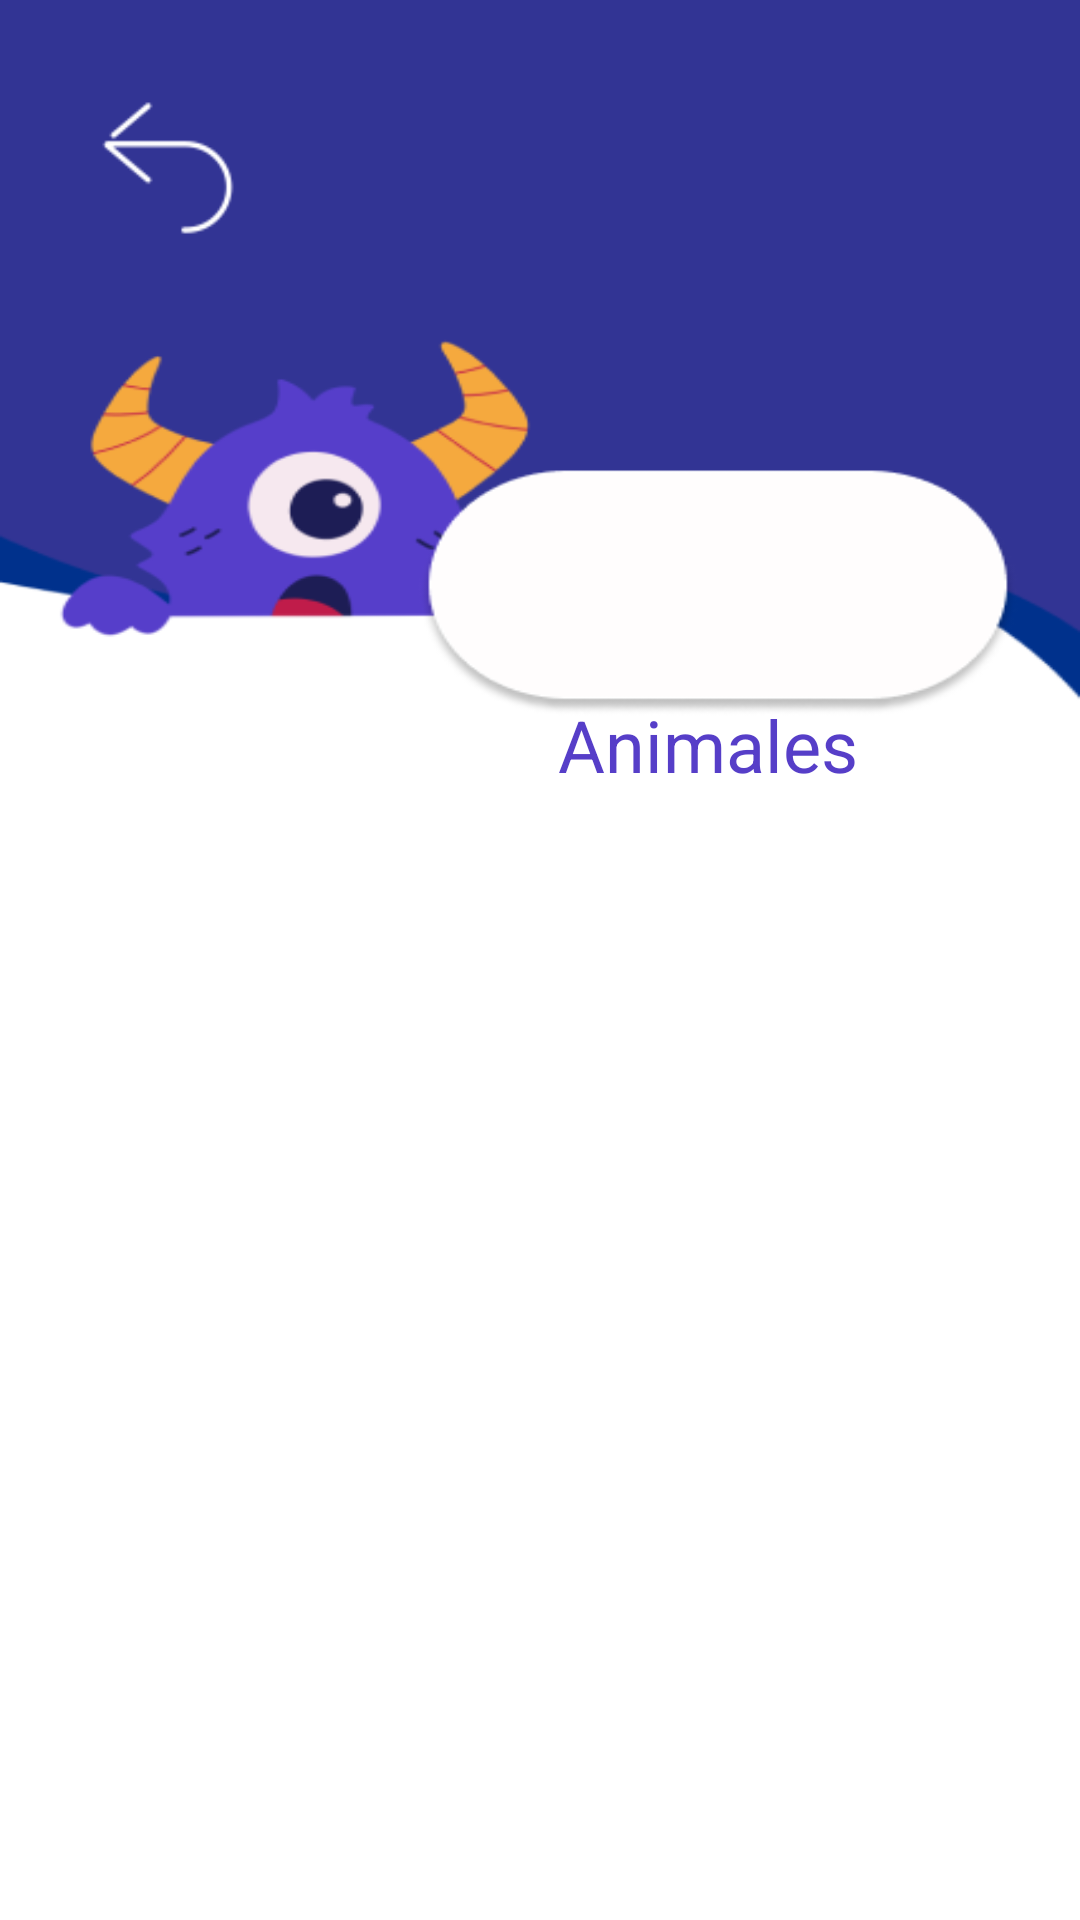

Screen size 1080 x 1920. Icon name, then its box in pixels as (x1, y1, x2, y2):
Retroceder: (103, 102, 234, 234)
